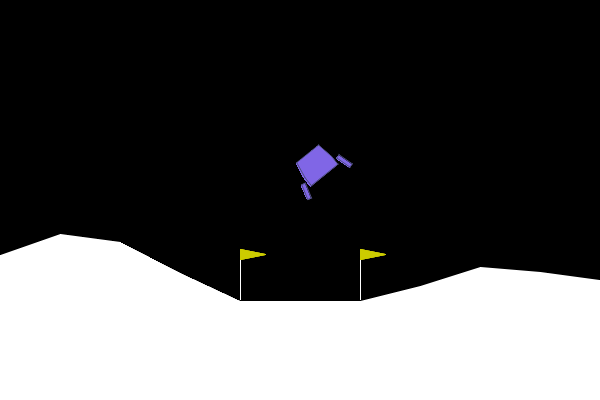lander: (282, 134, 354, 203)
